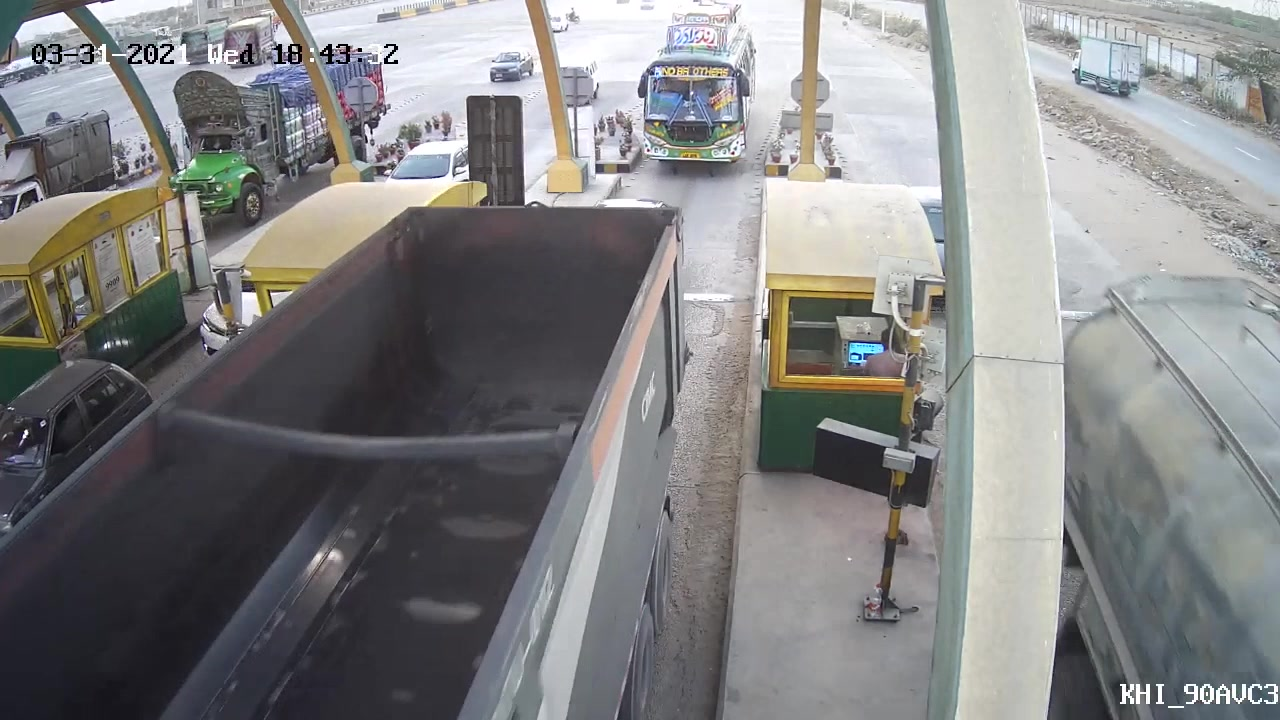F4: (634, 1, 760, 175)
